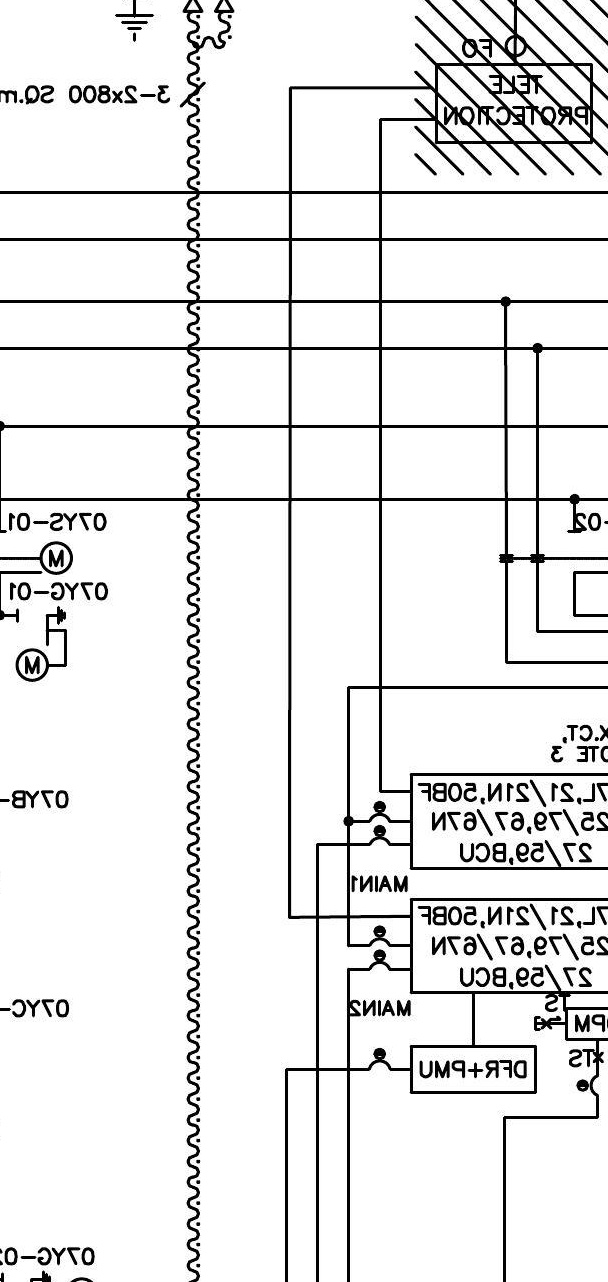115_gs_w_motor: (15, 605, 68, 683)
tele_protection: (432, 60, 596, 147)
